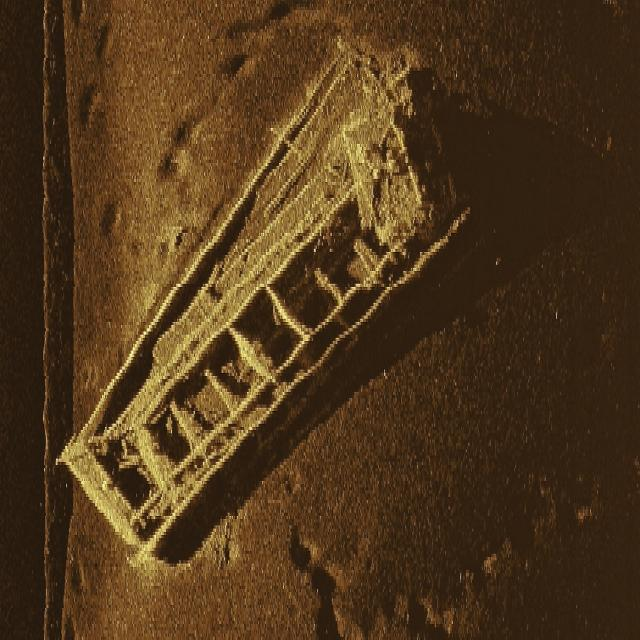ship: (55, 49, 471, 555)
